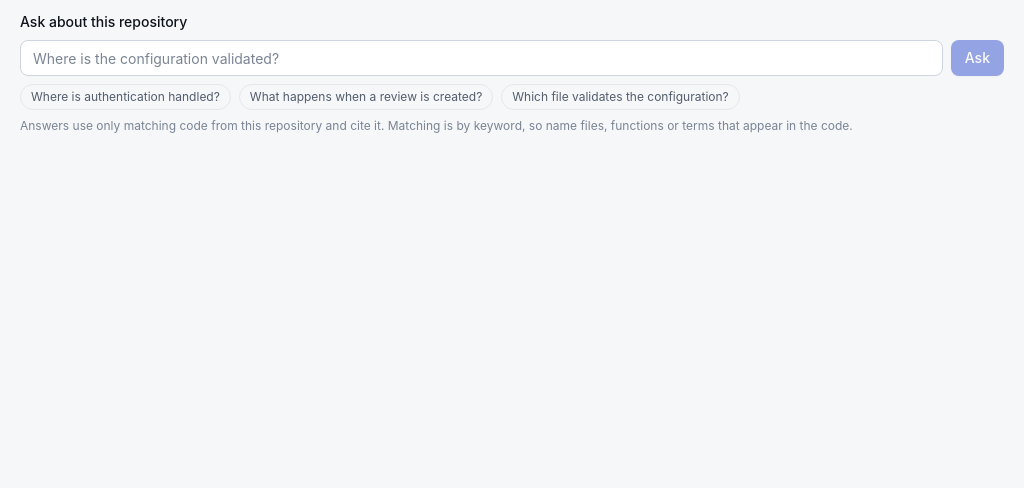
Test case: repository Q&A › sends the question for this repository and shows the answer with its evidence
The width and height of the screenshot is (1024, 488).
Type "Where is the discount applied?" into the field labelled "Ask about this repository" at coordinates (481, 58), box [20,40,943,76]
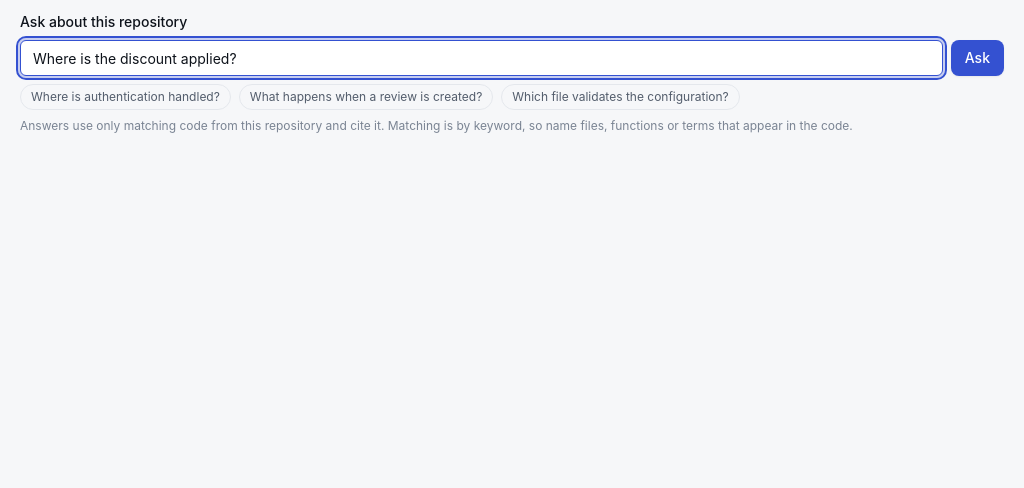
Click the button "Ask" at coordinates (977, 58), box [951,40,1004,76]
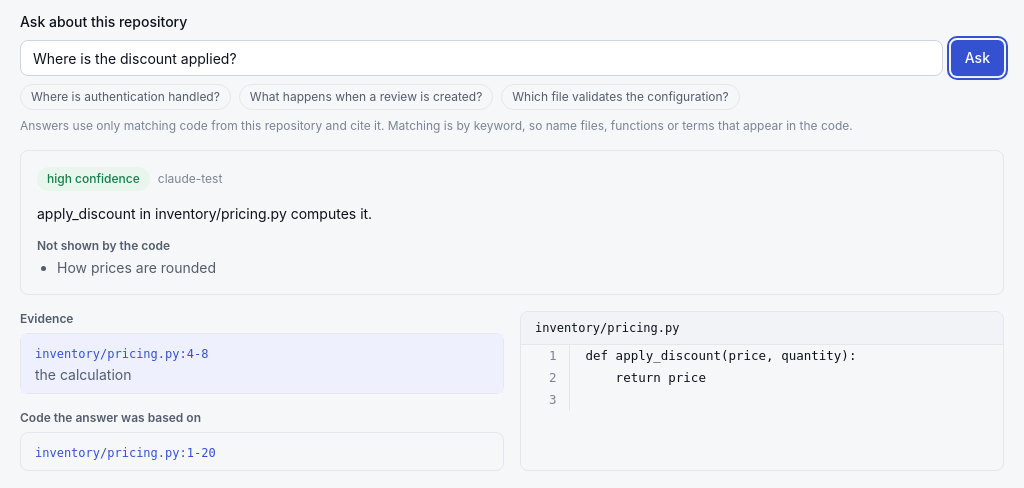
Now the text "apply_discount in inventory/pricing.py computes it." is shown, box [37,205,372,222]
Now the text "high confidence" is shown, box [37,167,150,191]
Now the text "the calculation" is shown, box [35,366,132,383]
